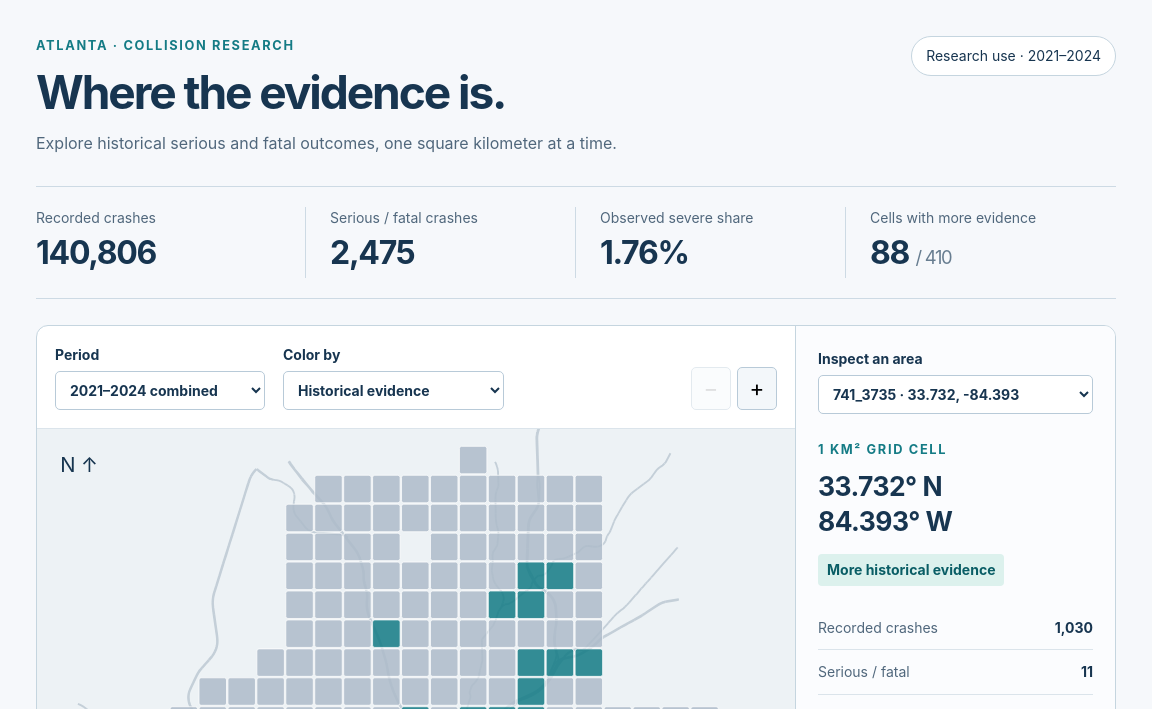
Test: shows the verified historical totals and updates to the selected year
The image size is (1152, 709).
Check: the text "140,806" is shown, box [36,233,156,272]
Check: the text "2,475" is shown, box [330,233,414,272]
Step 1. Select "2024" in the dropdown labelled "Period" → (160, 390), box [55,371,265,410]
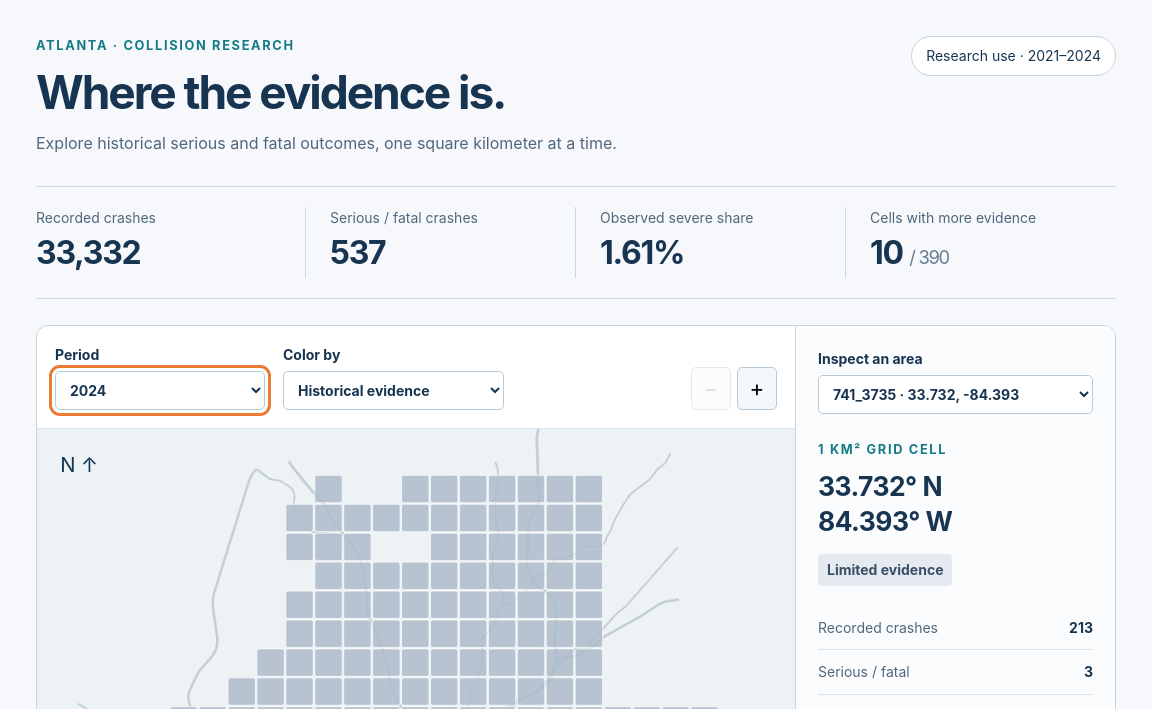
Check: the text "33,332" is shown, box [36,233,140,272]
Check: the text "537" is shown, box [330,233,385,272]
